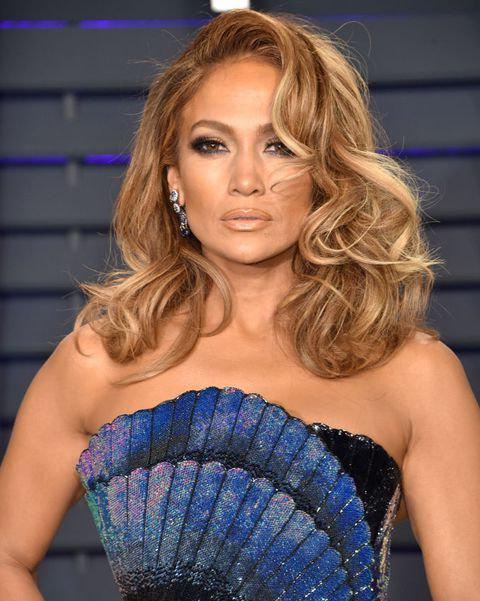Sober: (188, 78, 306, 247)
